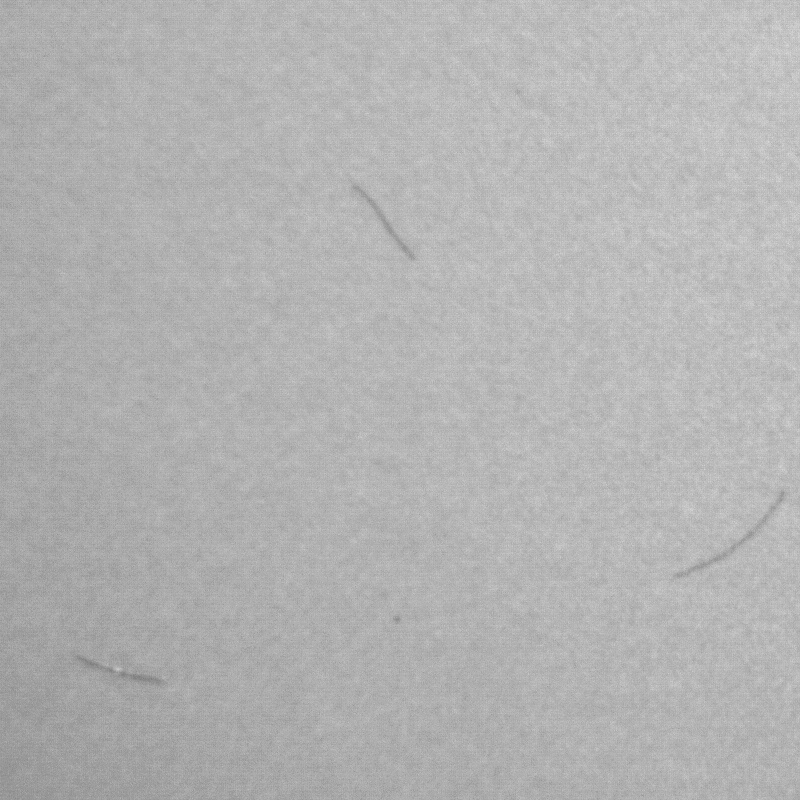defect: (673, 492, 785, 579), (356, 183, 426, 273), (77, 653, 169, 689)
